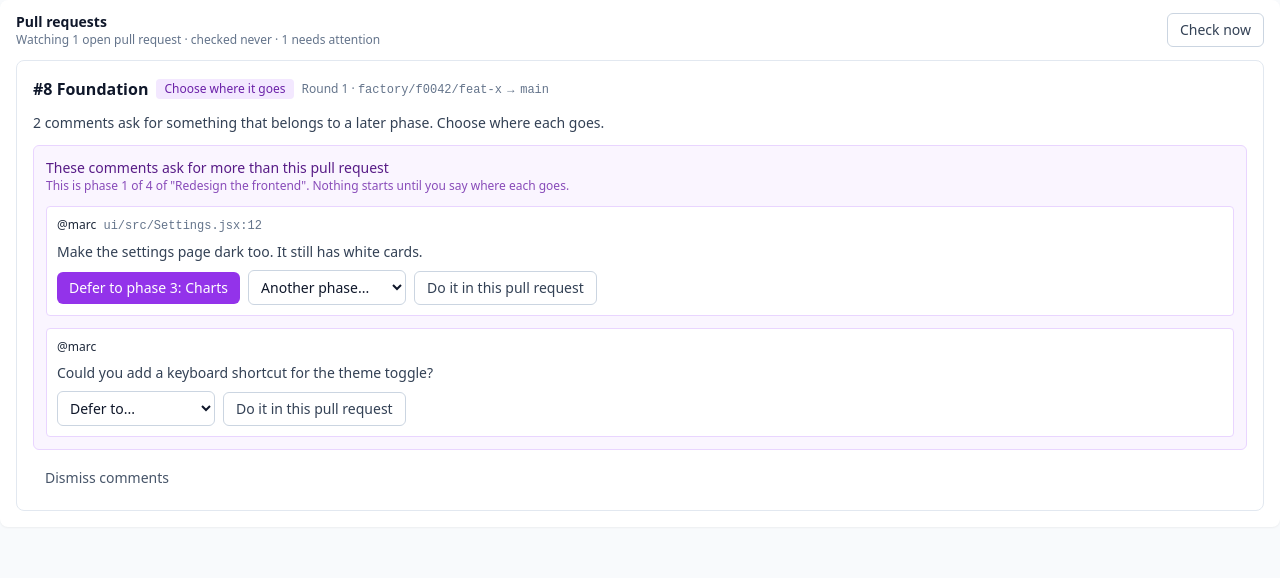
Test case: a pull request waiting for the user to say where comments go › says why when the decision was refused, and keeps the buttons
The width and height of the screenshot is (1280, 578).
Click the button "Defer to phase 3: Charts".
click(149, 288)  # box left=57, top=272, right=240, bottom=304
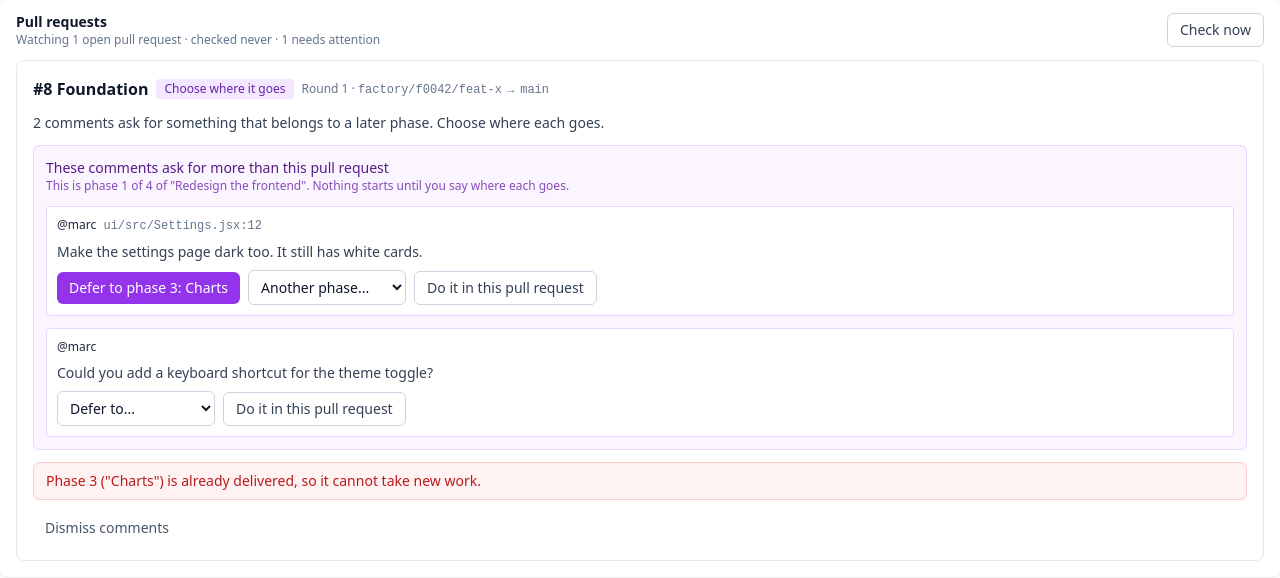
Now the message "Phase 3 (\"Charts\") is already delivered, so it cannot take new work." reads "Phase 3 (\"Charts\") is already delivered, so it cannot take new work.", box left=46, top=471, right=481, bottom=490
